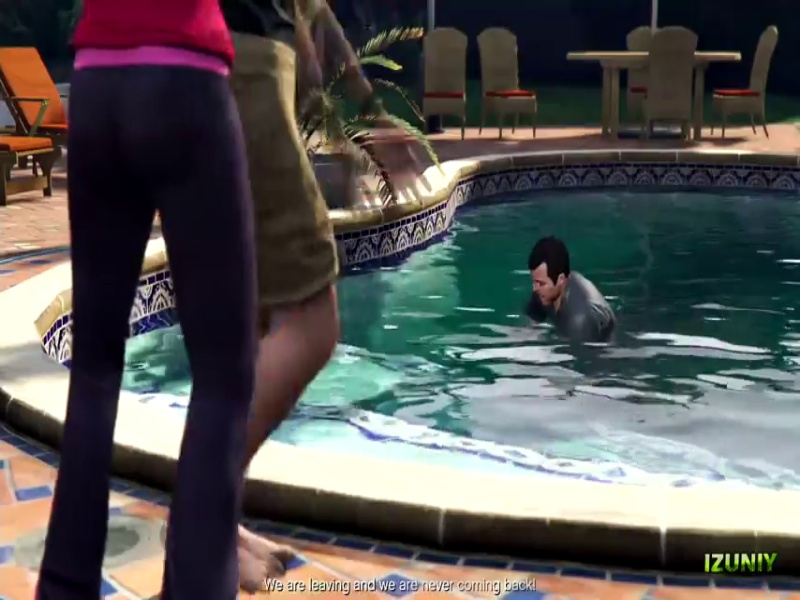human: (18, 4, 364, 598)
